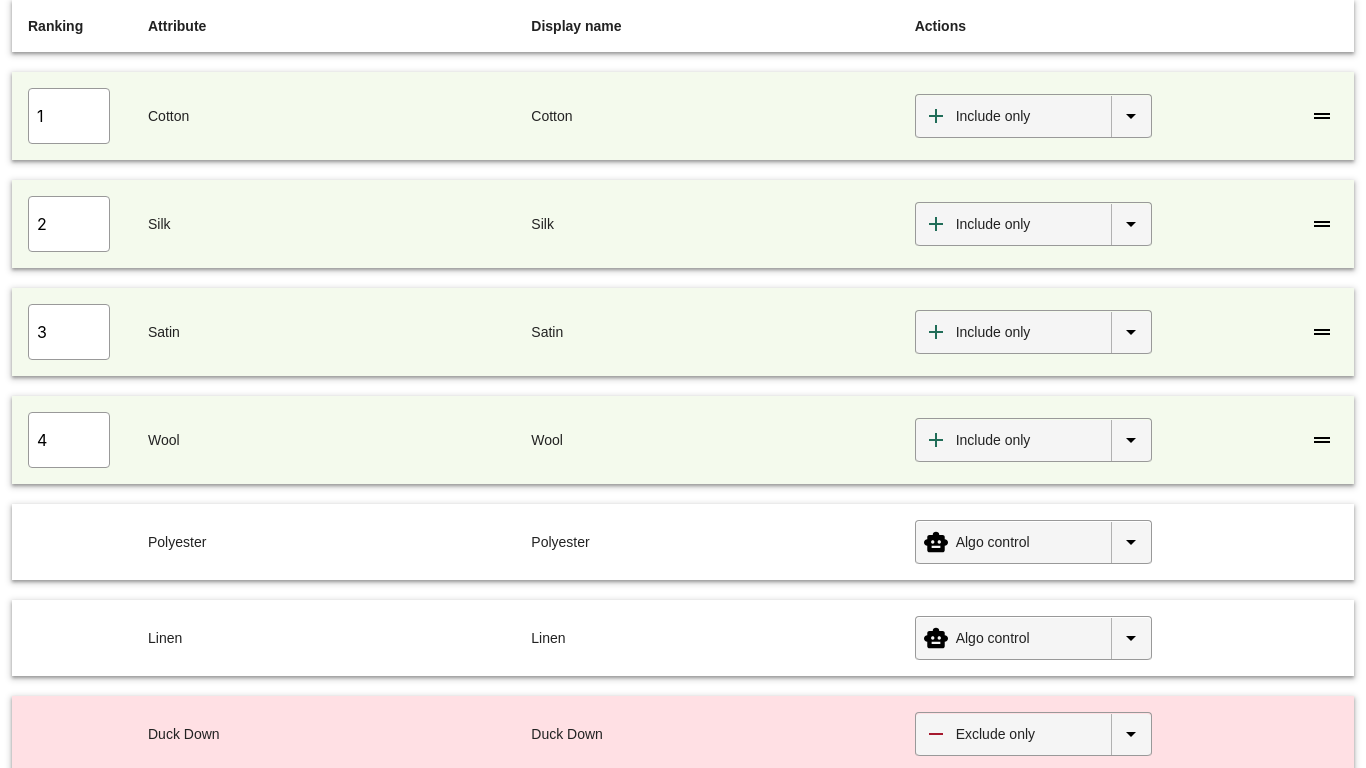
Test case: SearchAndCategoryFacetAttributesList › Re-order by number › should keep the existing order if the user deletes, then clicks enter without inputting a new order
Clear the number field named "Order for Silk" at (69, 224), box x1=28 y1=196 x2=110 y2=252
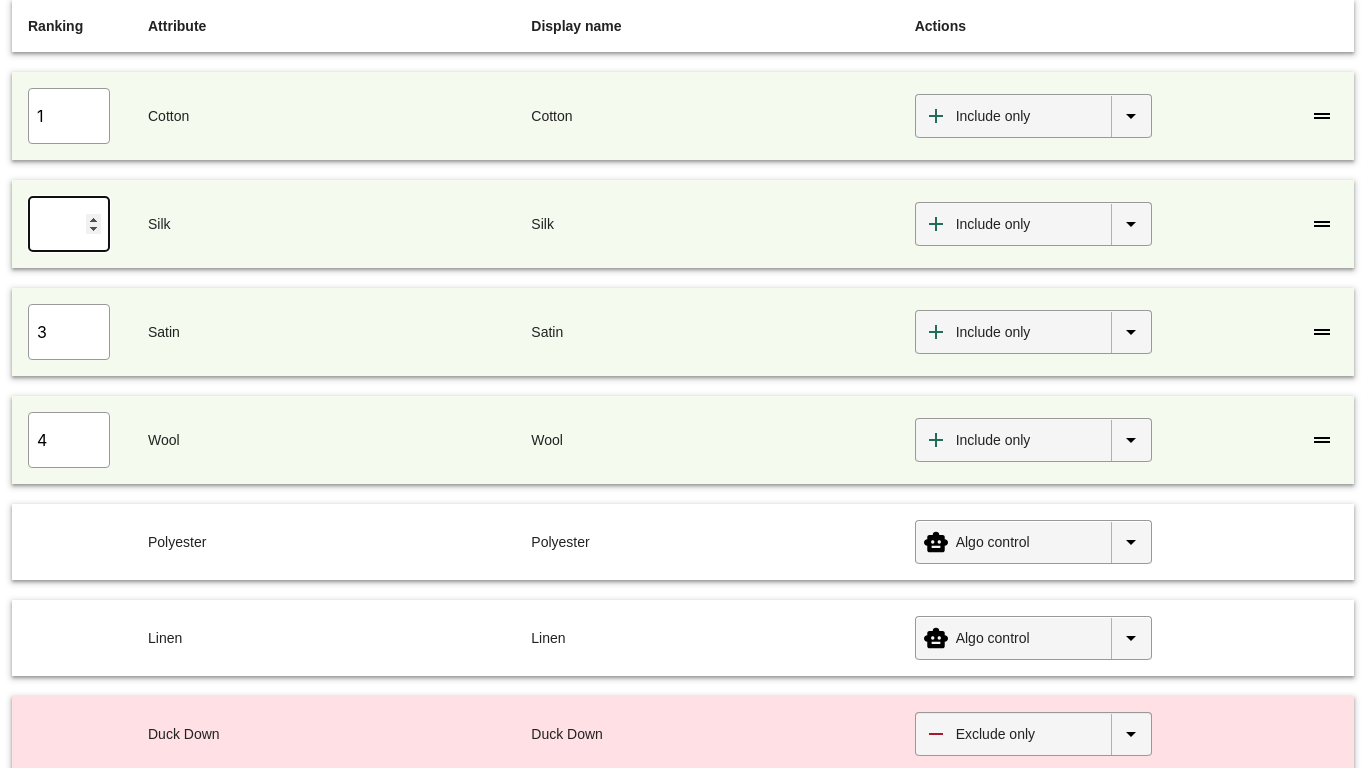
Press Enter
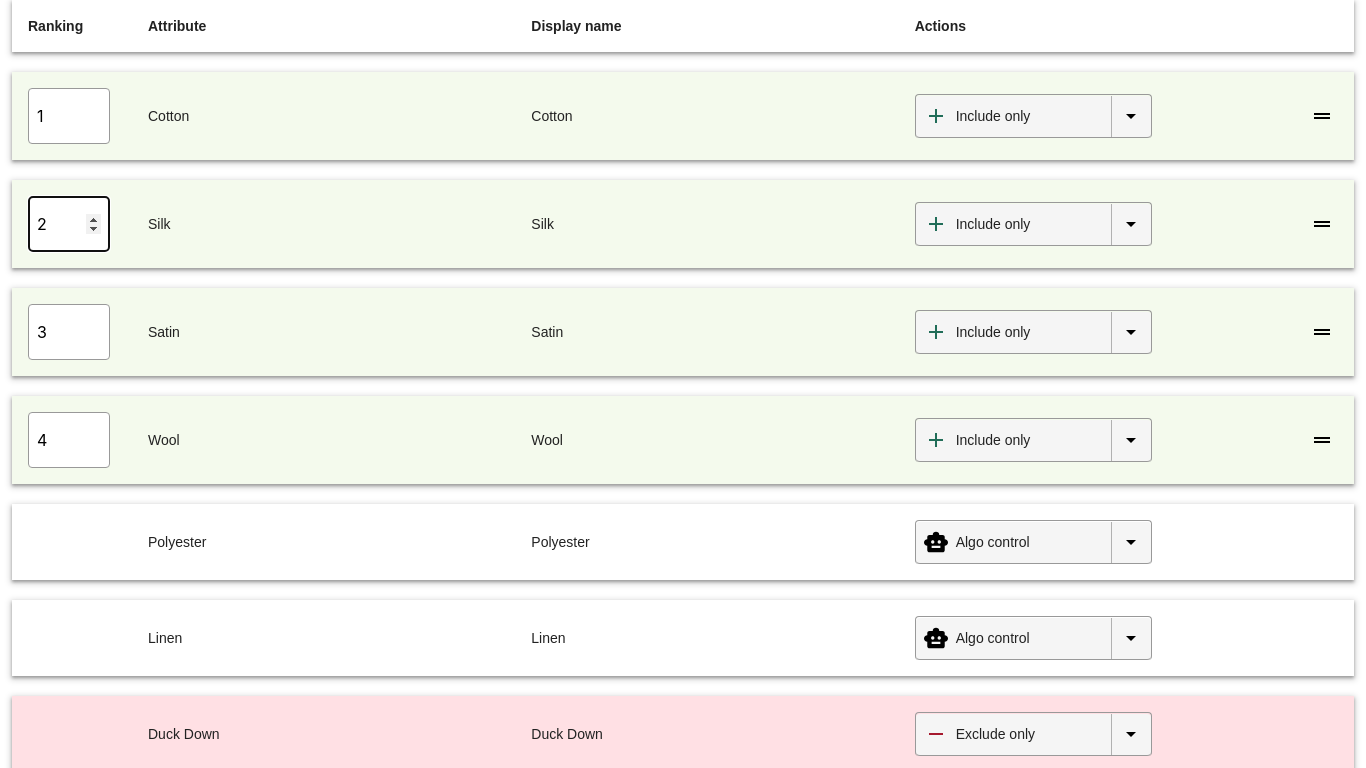
Check: the number field named "Order for Silk" holds "2", box x1=28 y1=196 x2=110 y2=252
